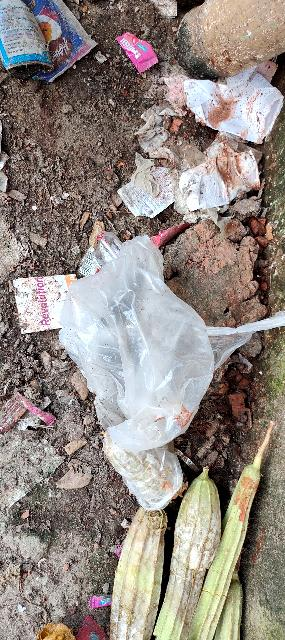polythene: (61, 245, 212, 508)
